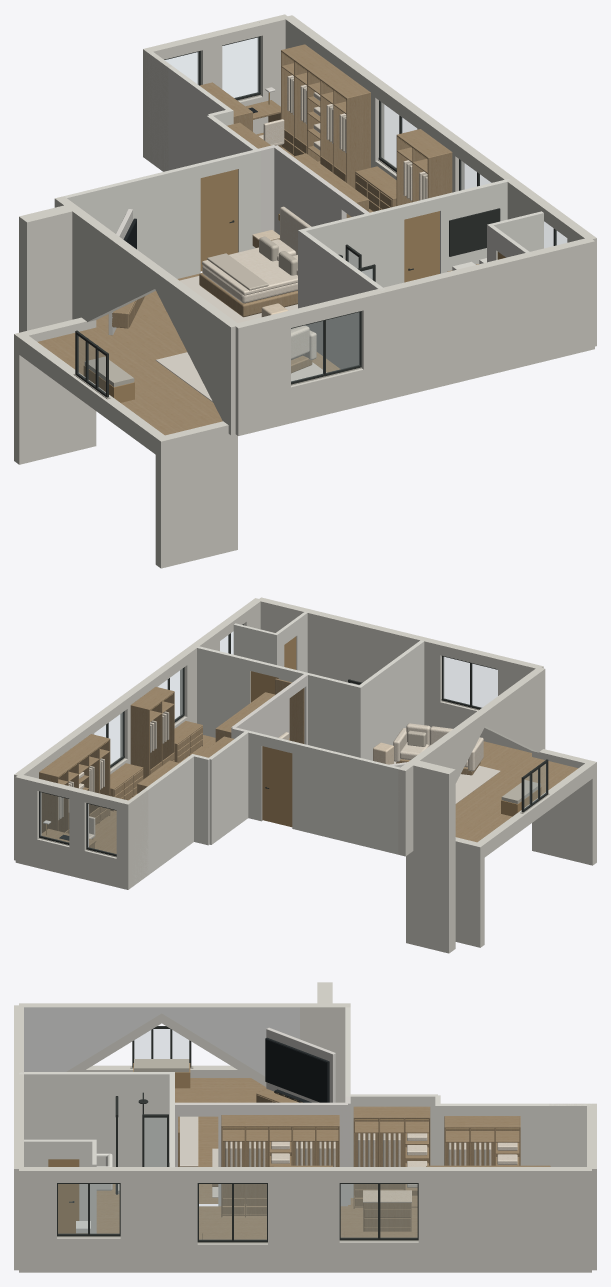
3 views of the same model, one above another, from view 1: azimuth 30°, elevation 25°; view 2: azimuth 150°, elevation 25°; view 3: azimuth 270°, elevation 25° (orthographic). The views are drawn at different scales.
Visible parts, largest first — view 1: Proposal | New wing south upper end pier, Proposal | Garage wing south return, Proposal | West upper principal facade above wing roof, Proposal | Principal suite north partition pier 0, Proposal | Garage wing north return, Proposal | Entrance bay south return, Proposal | New wing south upper pier 0, Proposal | Guest bathroom west, Suite layout | floor 0, Proposal | Principal bathroom west wall, Proposal | Principal bathroom partition pier 0, Suite layout | floor 1 (+42 smaller); view 2: Proposal | Principal suite north partition pier 0, Proposal | Entrance bay south return, Proposal | New wing south upper end pier, Proposal | Principal bathroom west wall, Proposal | West upper principal facade above wing roof, Proposal | Guest bathroom west, Proposal | Garage wing south return, Proposal | Principal bathroom partition pier 0, Proposal | Principal bathroom partition end pier, Proposal | Principal study west wall, Suite layout | floor 0, Proposal | Garage wing north return (+42 smaller); view 3: Proposal | New wing east upper end pier, Proposal | West upper principal facade above wing roof, Proposal | Principal bathroom west wall, Proposal | New wing east upper pier 1, Proposal | New wing east upper pier 2, Proposal | Guest bathroom west, Proposal | New wing east upper window 2 glass, Proposal | New wing east upper pier 0, Proposal | New wing east upper window 1 glass, Proposal | New wing east upper window 0 glass, Suite layout | TV screen, Suite layout | bedroom east wall (+42 smaller).
Boxes of the visible parts, bbox=[...] form: Proposal | New wing south upper end pier: bbox=[358, 237, 594, 405]; Proposal | Garage wing south return: bbox=[155, 421, 237, 568]; Proposal | West upper principal facade above wing roof: bbox=[81, 216, 237, 421]; Proposal | Principal suite north partition pier 0: bbox=[64, 163, 200, 278]; Proposal | Garage wing north return: bbox=[14, 317, 96, 464]; Proposal | Entrance bay south return: bbox=[19, 203, 81, 332]; Proposal | New wing south upper pier 0: bbox=[233, 311, 290, 435]; Proposal | Guest bathroom west: bbox=[145, 50, 231, 171]; Suite layout | floor 0: bbox=[38, 327, 222, 435]; Proposal | Principal bathroom west wall: bbox=[298, 229, 384, 369]; Proposal | Principal bathroom partition pier 0: bbox=[298, 205, 404, 308]; Suite layout | floor 1: bbox=[96, 273, 340, 419]; Proposal | Principal suite north partition pier 0: bbox=[292, 741, 401, 854]; Proposal | Entrance bay south return: bbox=[406, 761, 455, 953]; Proposal | New wing south upper end pier: bbox=[257, 597, 444, 727]; Proposal | Principal bathroom west wall: bbox=[357, 640, 424, 760]; Proposal | West upper principal facade above wing roof: bbox=[420, 668, 543, 774]; Proposal | Guest bathroom west: bbox=[128, 754, 193, 885]; Proposal | Garage wing south return: bbox=[532, 749, 596, 865]; Proposal | Principal bathroom partition pier 0: bbox=[278, 666, 362, 757]; Proposal | Principal bathroom partition end pier: bbox=[197, 646, 251, 737]; Proposal | Principal study west wall: bbox=[208, 730, 248, 844]; Suite layout | floor 0: bbox=[455, 757, 577, 842]; Proposal | Garage wing north return: bbox=[455, 837, 484, 947]; Proposal | New wing east upper end pier: bbox=[418, 1167, 591, 1272]; Proposal | West upper principal facade above wing roof: bbox=[23, 1003, 299, 1076]; Proposal | Principal bathroom west wall: bbox=[19, 1072, 174, 1166]; Proposal | New wing east upper pier 1: bbox=[120, 1167, 197, 1272]; Proposal | New wing east upper pier 2: bbox=[268, 1167, 339, 1272]; Proposal | Guest bathroom west: bbox=[438, 1103, 591, 1166]; Proposal | New wing east upper window 2 glass: bbox=[341, 1184, 417, 1237]; Proposal | New wing east upper pier 0: bbox=[19, 1167, 56, 1272]; Proposal | New wing east upper window 1 glass: bbox=[199, 1184, 266, 1239]; Proposal | New wing east upper window 0 glass: bbox=[58, 1184, 119, 1233]; Suite layout | TV screen: bbox=[265, 1039, 327, 1102]; Suite layout | bedroom east wall: bbox=[218, 1102, 347, 1206].
Size of the model in its own units: 10.72 by 5.35 by 13.28.
Materials: 18 (3 with a texture image).
